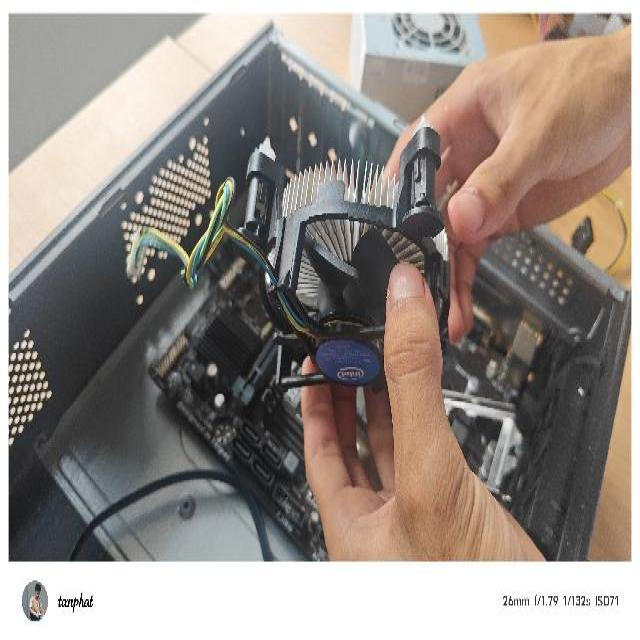CPU_Fan: (232, 115, 458, 412)
